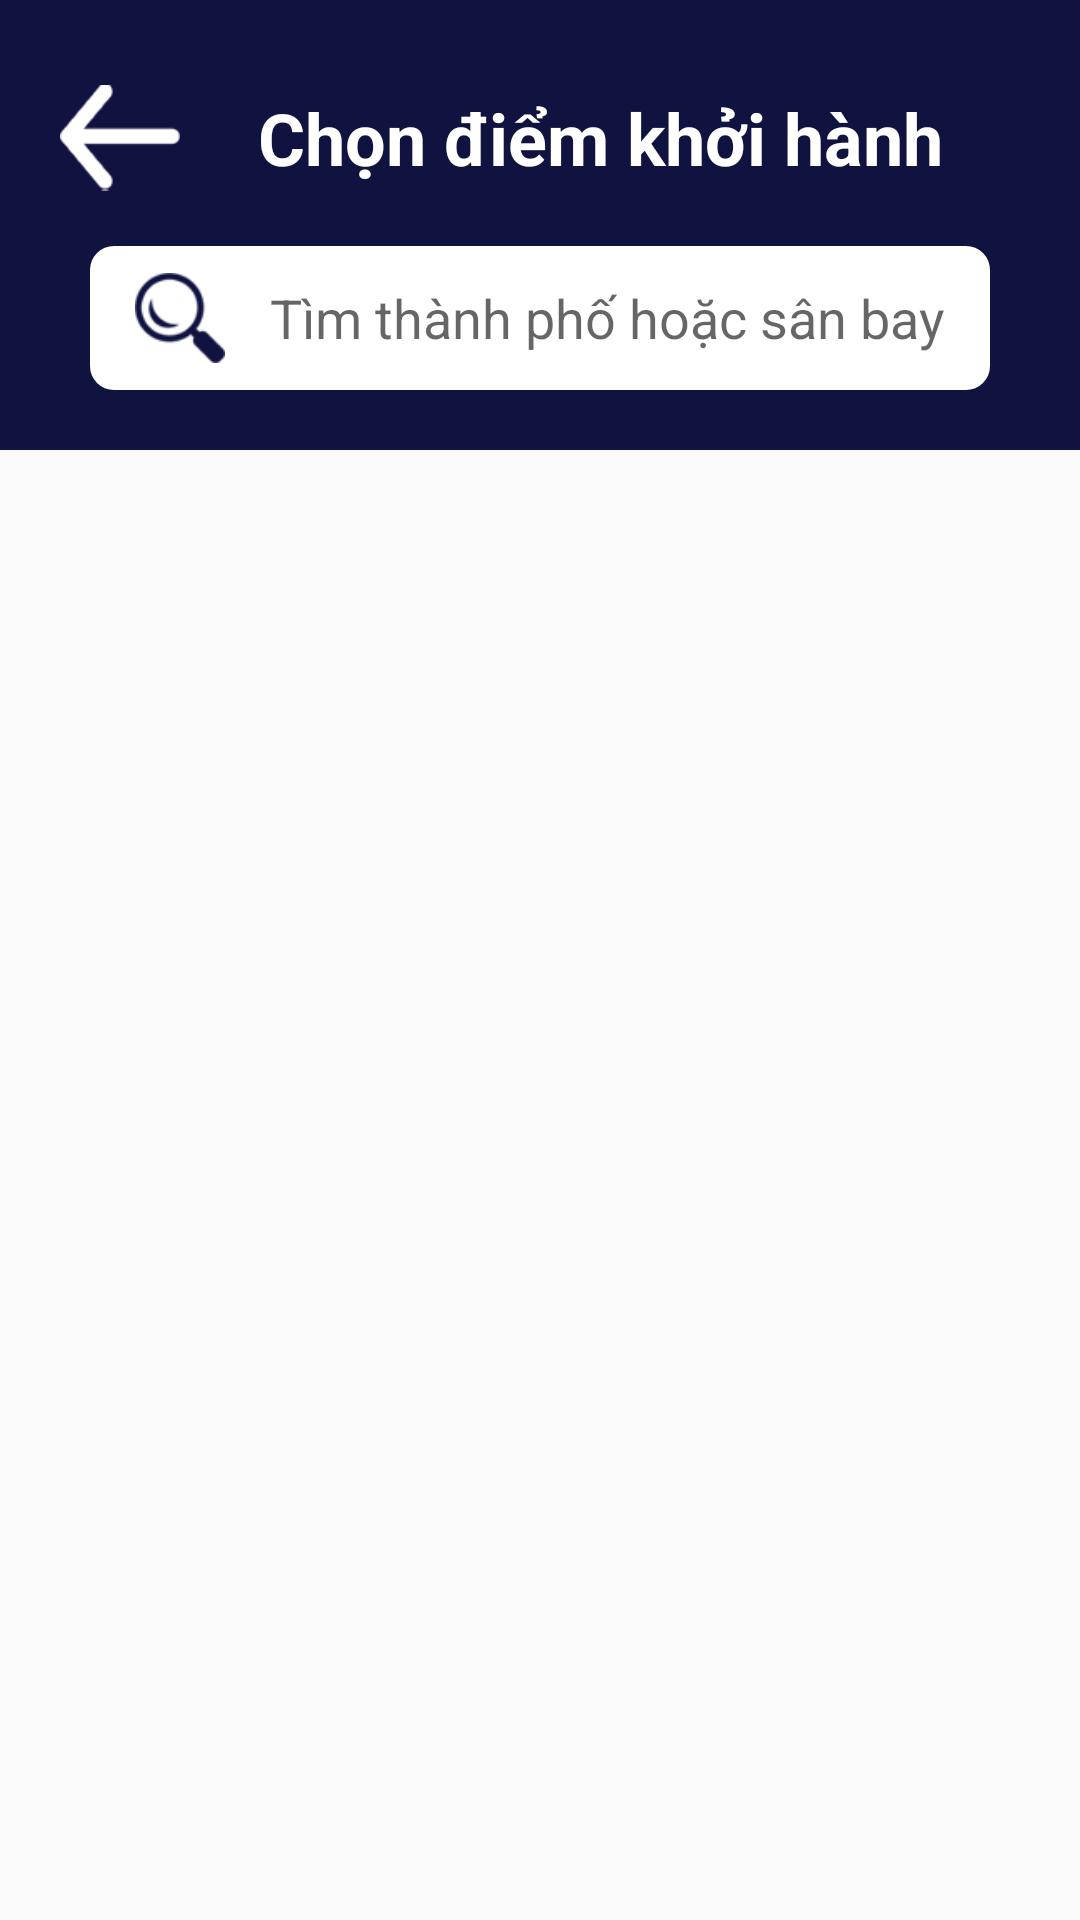

Icon bounding boxes for this 1080w x 1920h phone screenshot, format (x1, y1, x2, y2):
back: (60, 85, 180, 191)
search: (135, 273, 225, 363)
